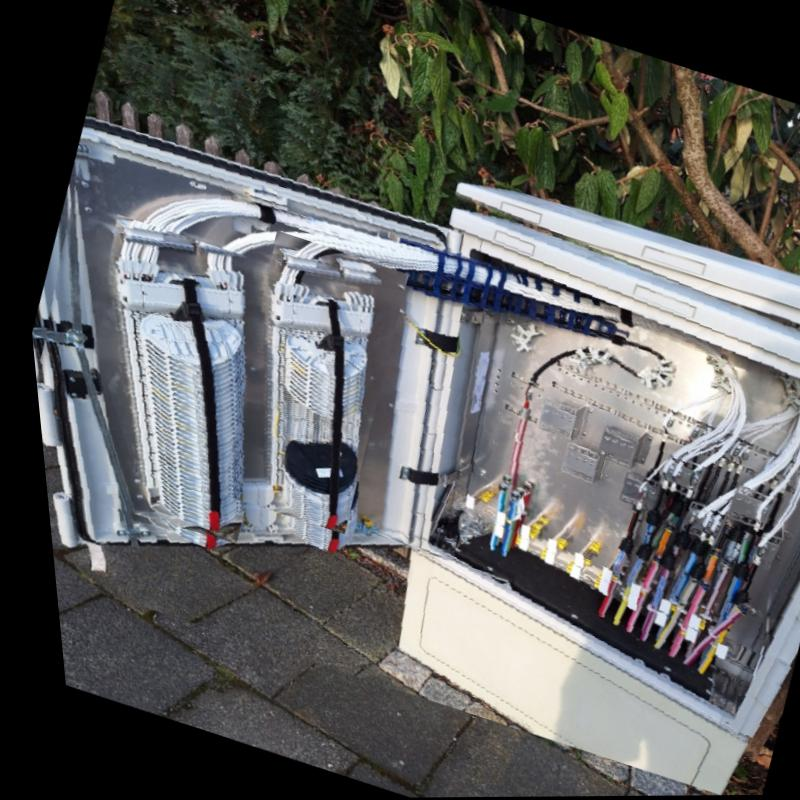NT-Gehause: (30, 121, 800, 795)
Spleiskassetten: (105, 223, 247, 535), (252, 243, 372, 531)
